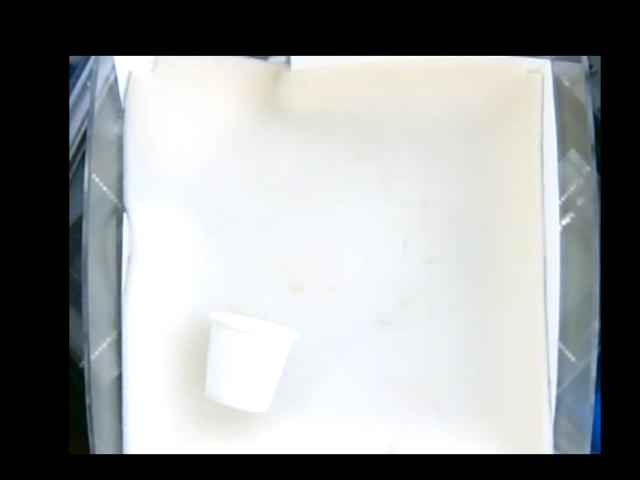Cup: (201, 311, 299, 411)
